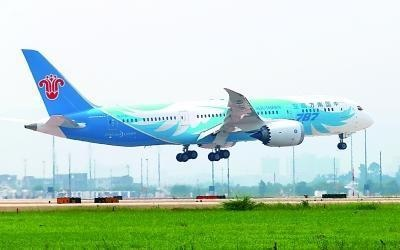airplane: (16, 48, 375, 165)
